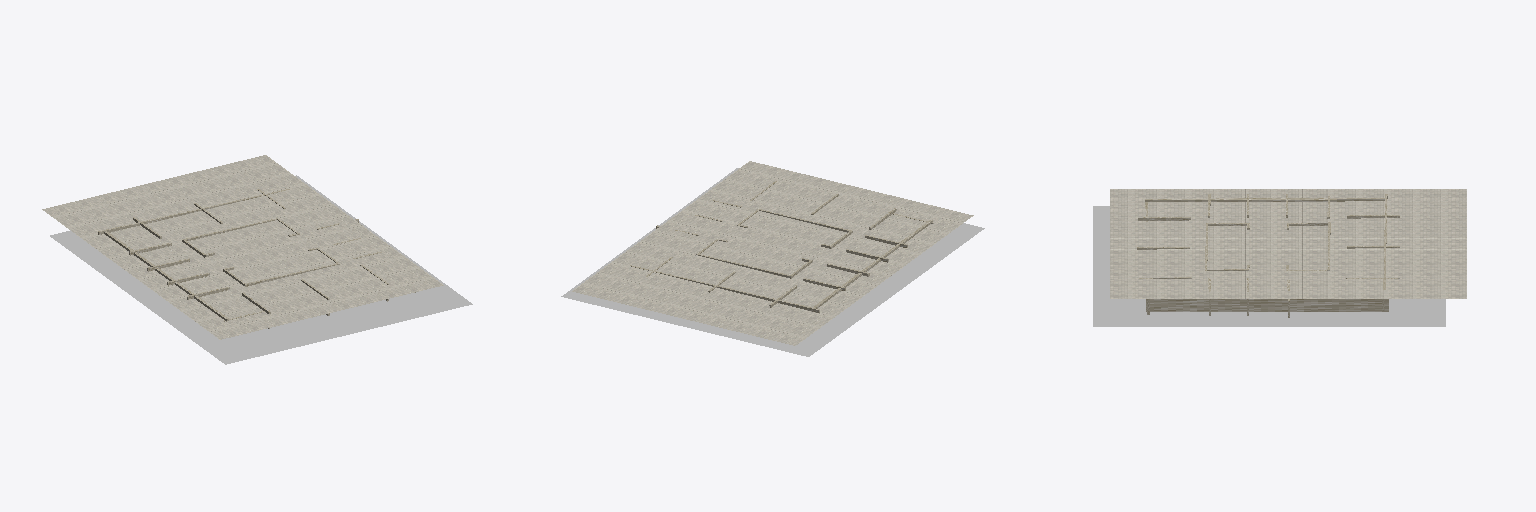
The picture shows the model from 3 angles: view 1: azimuth 30°, elevation 25°; view 2: azimuth 150°, elevation 25°; view 3: azimuth 270°, elevation 25°; orthographic projection.
Visible parts, largest first — view 1: Plane.001, Plane, Cube; view 2: Plane.001, Plane; view 3: Plane.001, Plane, Cube.003, Cube.
Part boxes in pixels (left/top/right/bottom): Plane.001: left=42, top=155, right=443, bottom=339; Plane: left=50, top=175, right=472, bottom=364; Cube: left=104, top=231, right=228, bottom=321; Plane.001: left=572, top=161, right=973, bottom=345; Plane: left=561, top=168, right=984, bottom=356; Plane.001: left=1110, top=189, right=1466, bottom=298; Plane: left=1093, top=206, right=1445, bottom=326; Cube.003: left=1146, top=299, right=1388, bottom=311; Cube: left=1145, top=198, right=1384, bottom=201.
Bounding box in the file's own units: 97.19 × 8.08 × 127.
Materials: 3 (2 with a texture image).